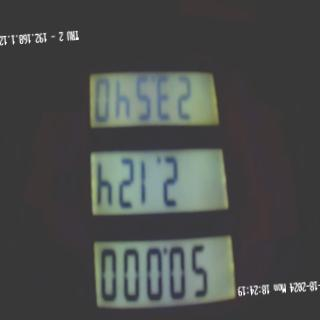screen: (69, 27, 242, 320)
